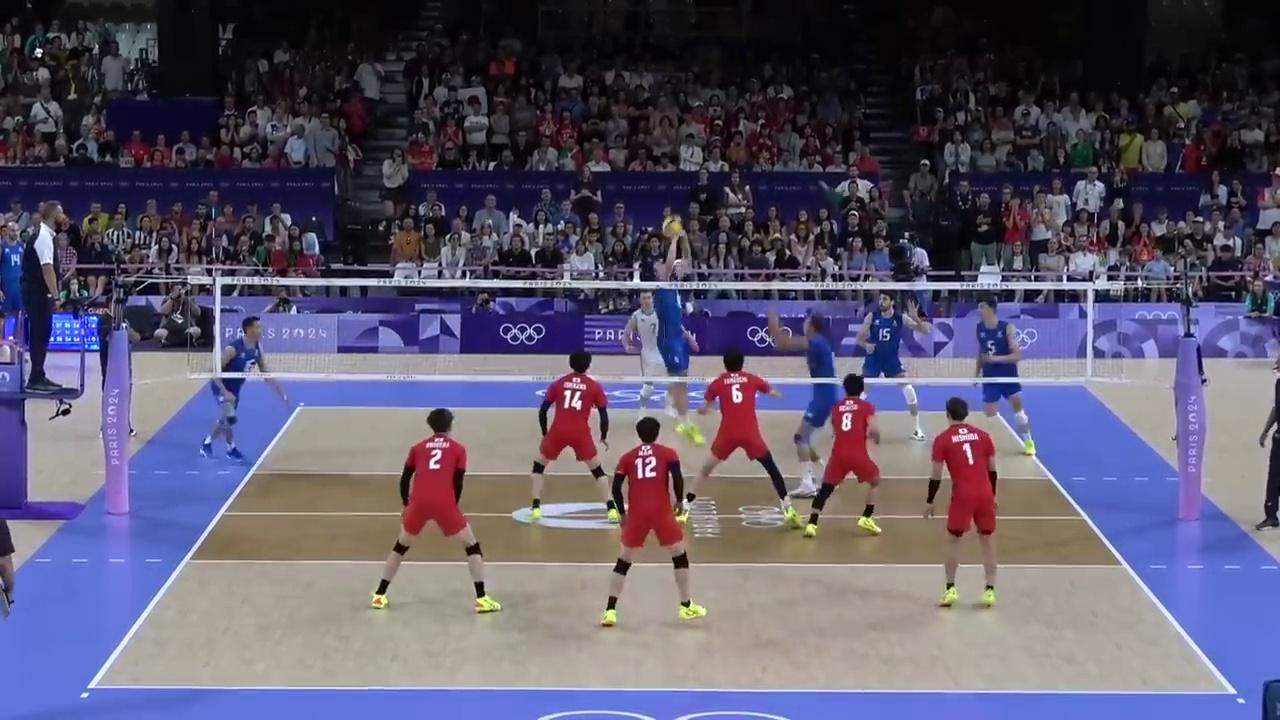ball: (662, 217, 682, 237)
